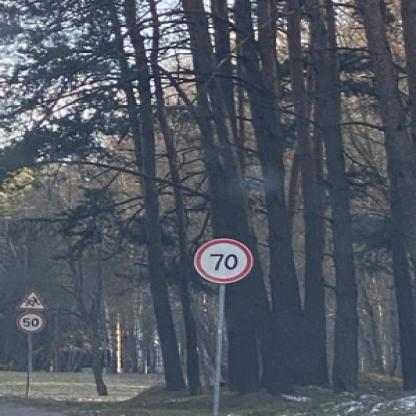Speed Limit 50: (16, 312, 46, 333)
Speed Limit 70: (194, 239, 252, 284)
